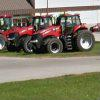Tractor: (6, 9, 100, 65)
